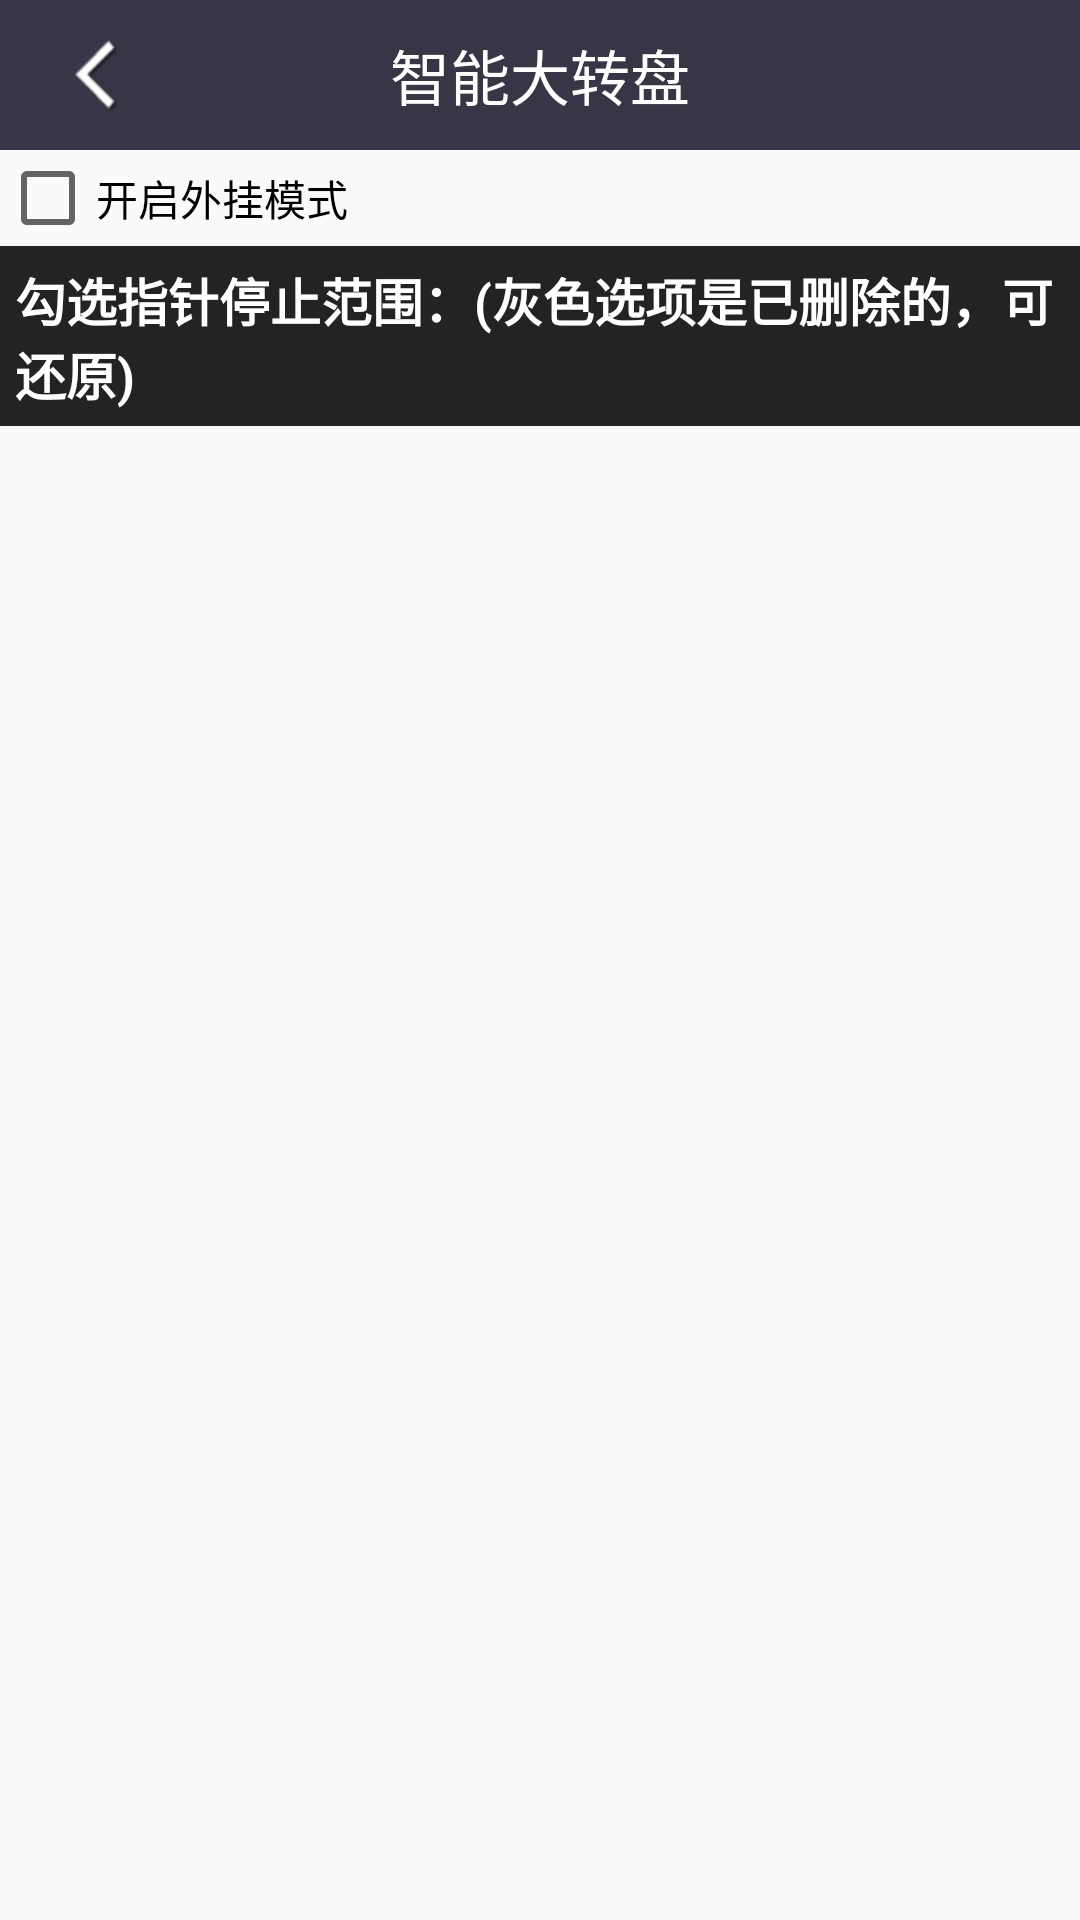

Icon click points for this 1080*1920 phone screenshot, format point (x, y):
prev: point (94, 74)
